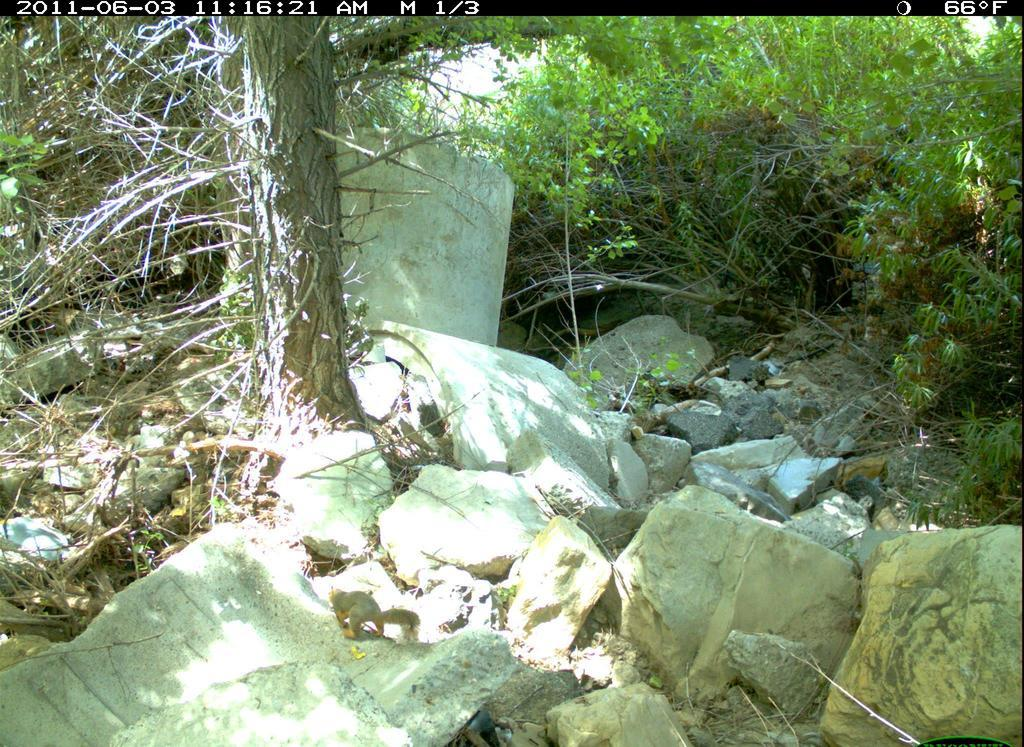squirrel: (318, 577, 434, 653)
